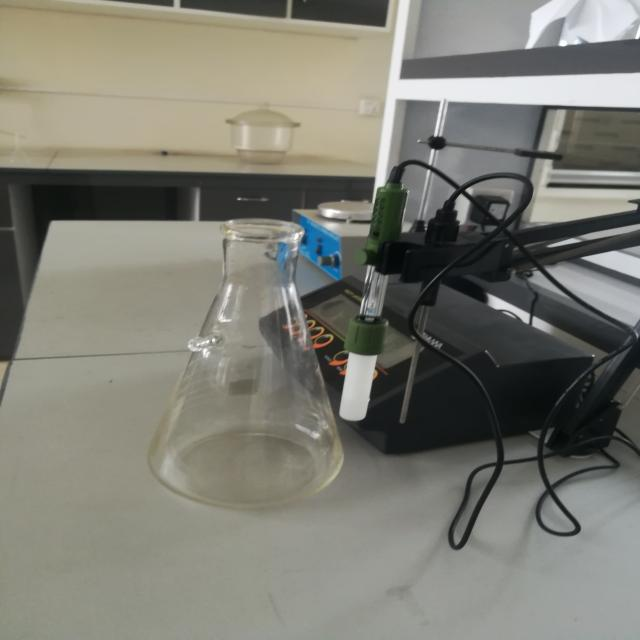Conical_Flask: (119, 186, 392, 545)
